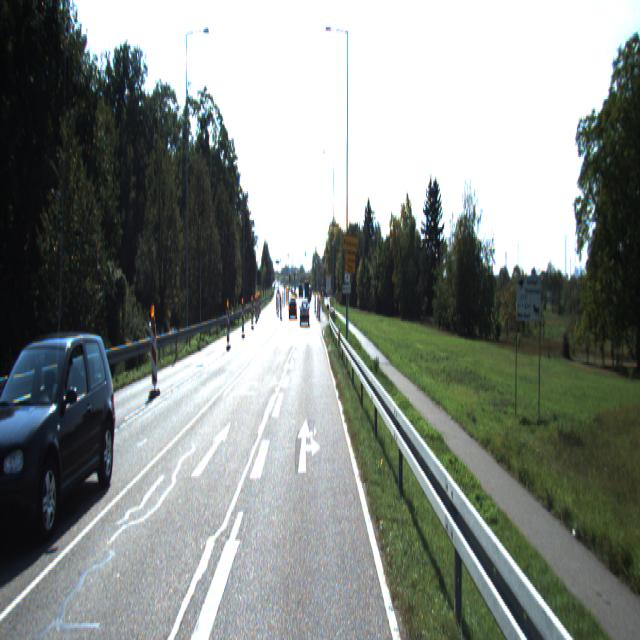Car: (0, 324, 121, 550), (300, 299, 310, 324)
